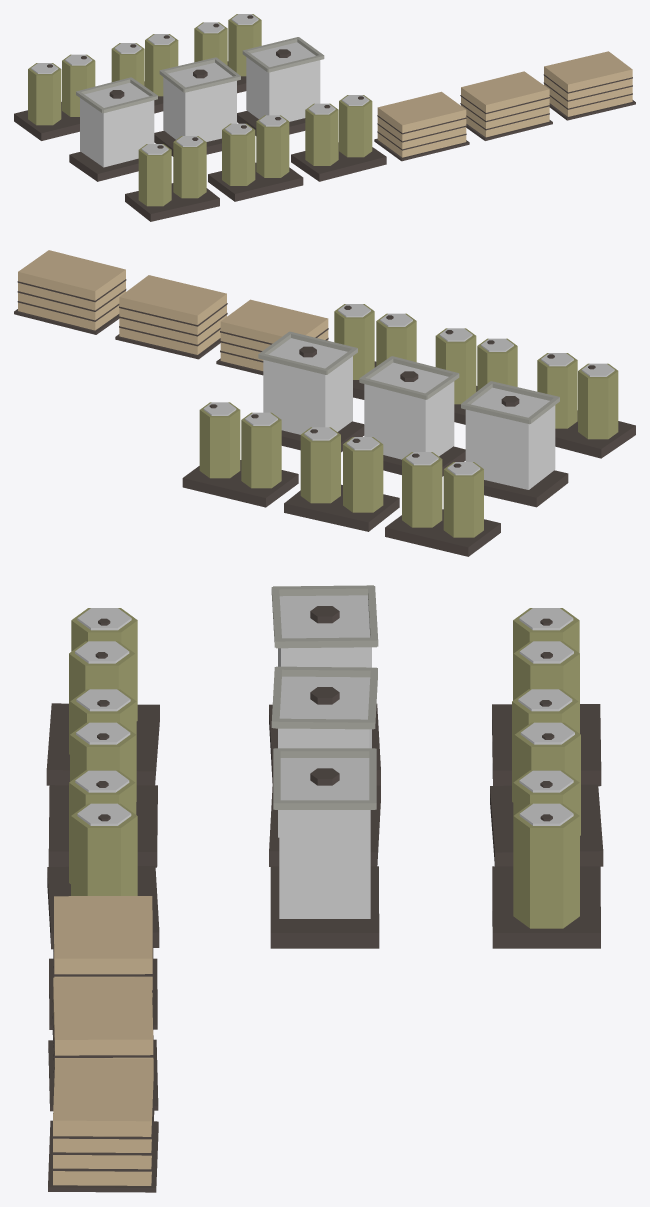
File: SM_AcopioCombustible_v1_Mitad_LOD1.fbx
3 renders of one model, top to bottom at view 1: azimuth 30°, elevation 25°; view 2: azimuth 150°, elevation 25°; view 3: azimuth 270°, elevation 25°, orthographic. The views are drawn at different scales.
Parts seen in each view (by area): view 1: SM_acopio_carga_v6_LOD1; view 2: SM_acopio_carga_v6_LOD1; view 3: SM_acopio_carga_v6_LOD1.
Boxes of the visible parts, <box> form: SM_acopio_carga_v6_LOD1: <box>14,14,635,221</box>; SM_acopio_carga_v6_LOD1: <box>14,250,635,556</box>; SM_acopio_carga_v6_LOD1: <box>46,585,603,1192</box>.
Size of the model in its own units: 9.1 by 1.27 by 4.52.
